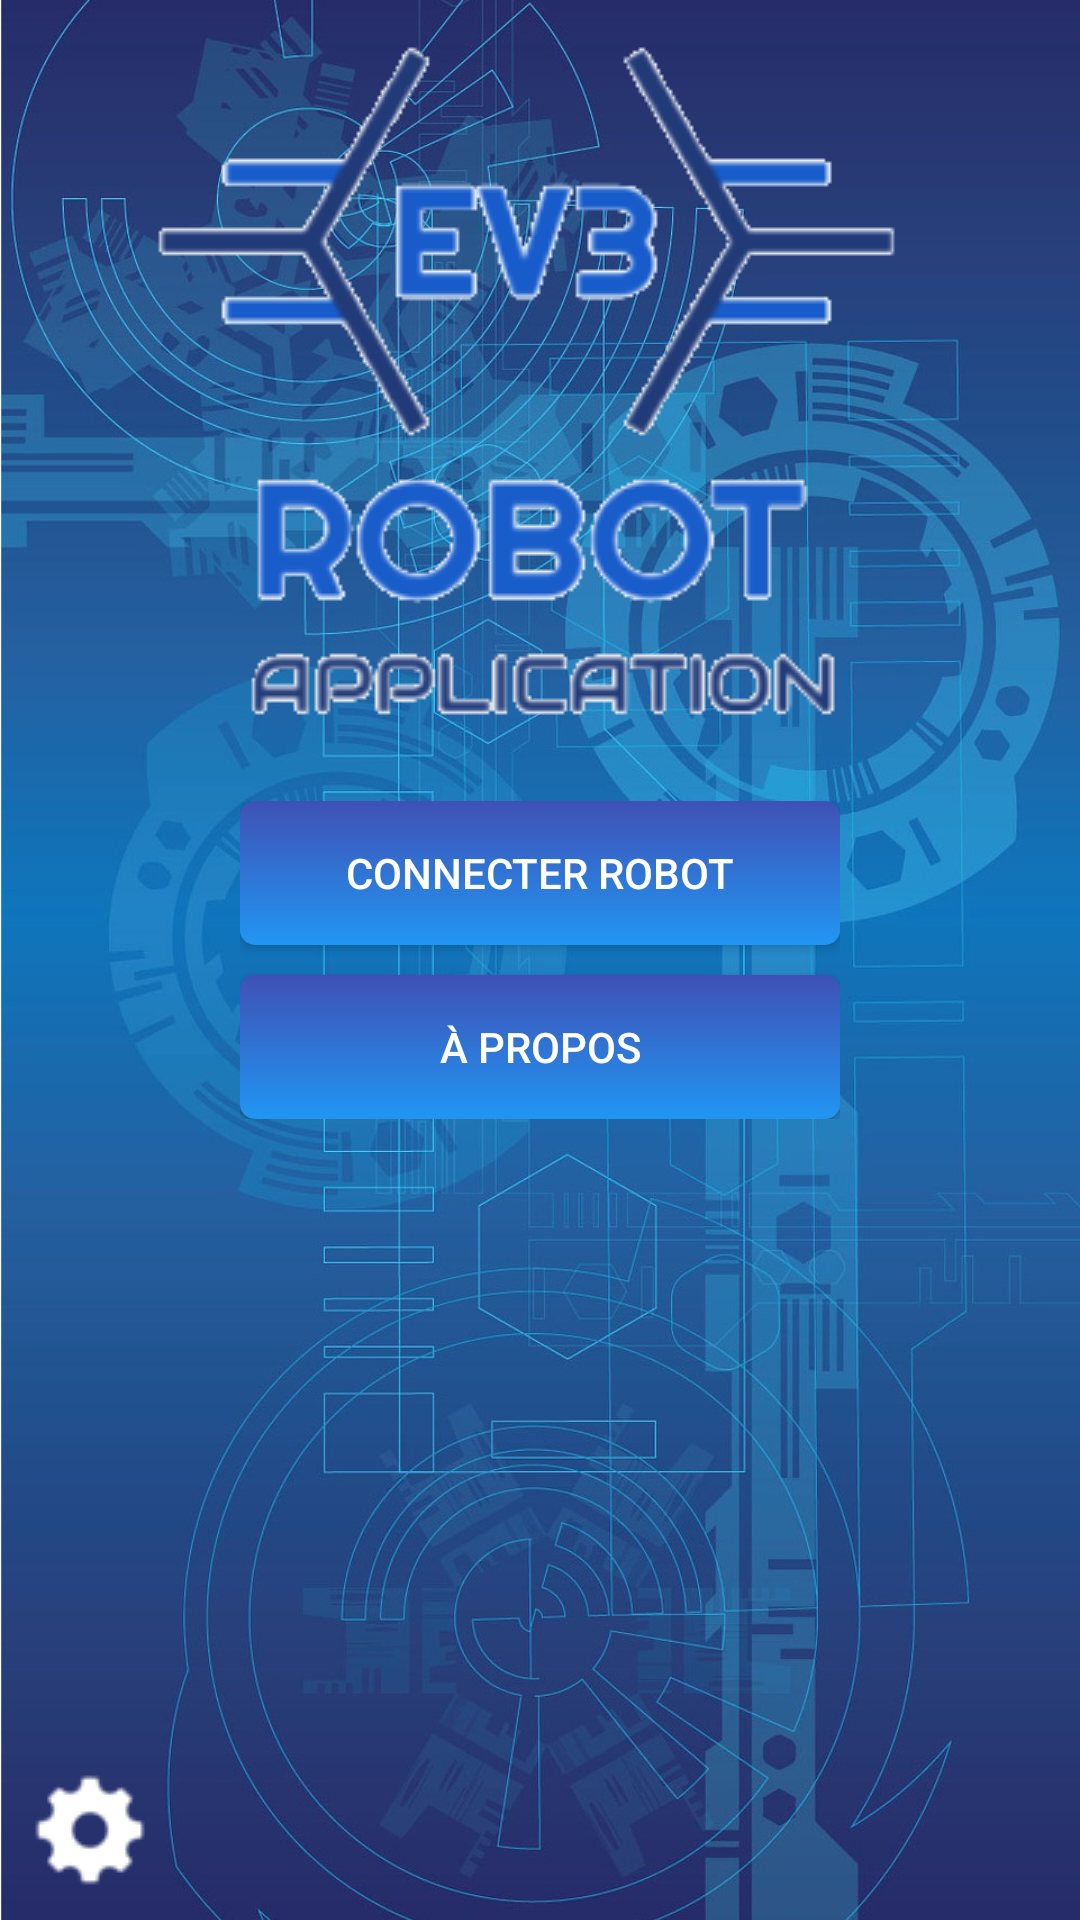

Where icons sit on this 1080px x 1920px app screen, as rect(x1, y1, x2, y2):
parametre: rect(35, 1775, 145, 1885)
